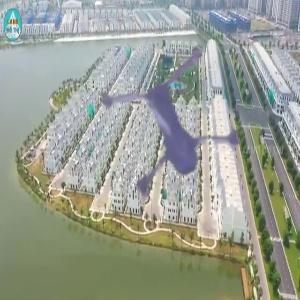drone: (64, 28, 286, 250)
